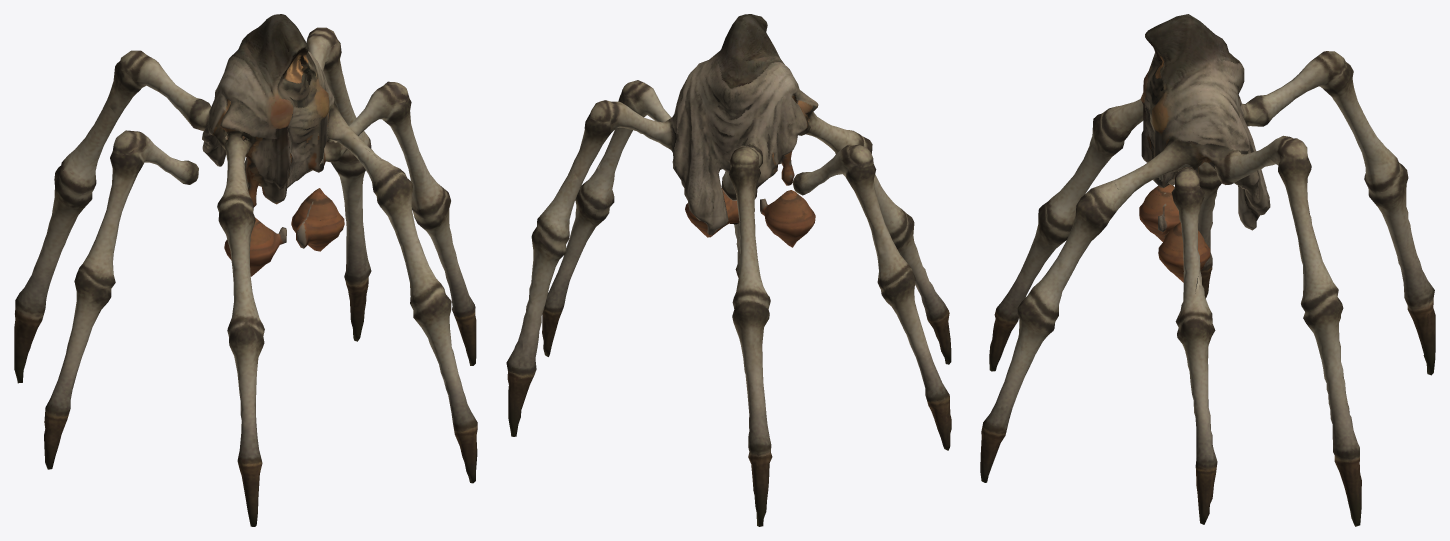
The model's file is sirrath_v1.glb.
3 renders of one model, left to right at view 1: azimuth 30°, elevation 25°; view 2: azimuth 150°, elevation 25°; view 3: azimuth 270°, elevation 25°, orthographic. The views are drawn at different scales.
Parts seen in each view (by area): view 1: sirrath-m0q-8000; view 2: sirrath-m0q-8000; view 3: sirrath-m0q-8000.
Part boxes in pixels (x1,y1,x2,y2): sirrath-m0q-8000: (14,14,477,526); sirrath-m0q-8000: (506,14,951,526); sirrath-m0q-8000: (980,14,1435,526).
Size of the model in its own units: 1 by 0.9456 by 0.9046.
1 material, 1 textured.
